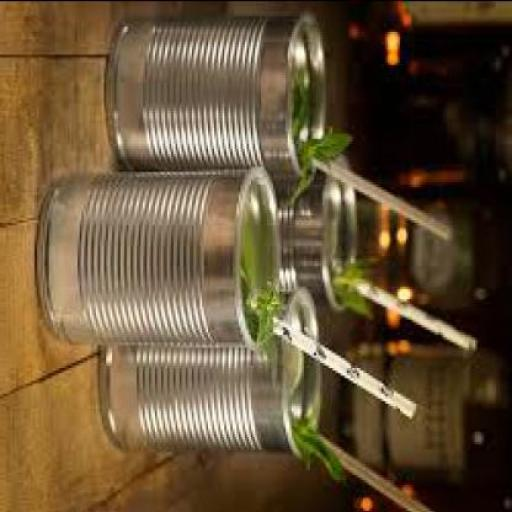metal: (40, 163, 286, 344), (106, 8, 328, 180), (100, 283, 324, 453), (269, 145, 359, 308)
